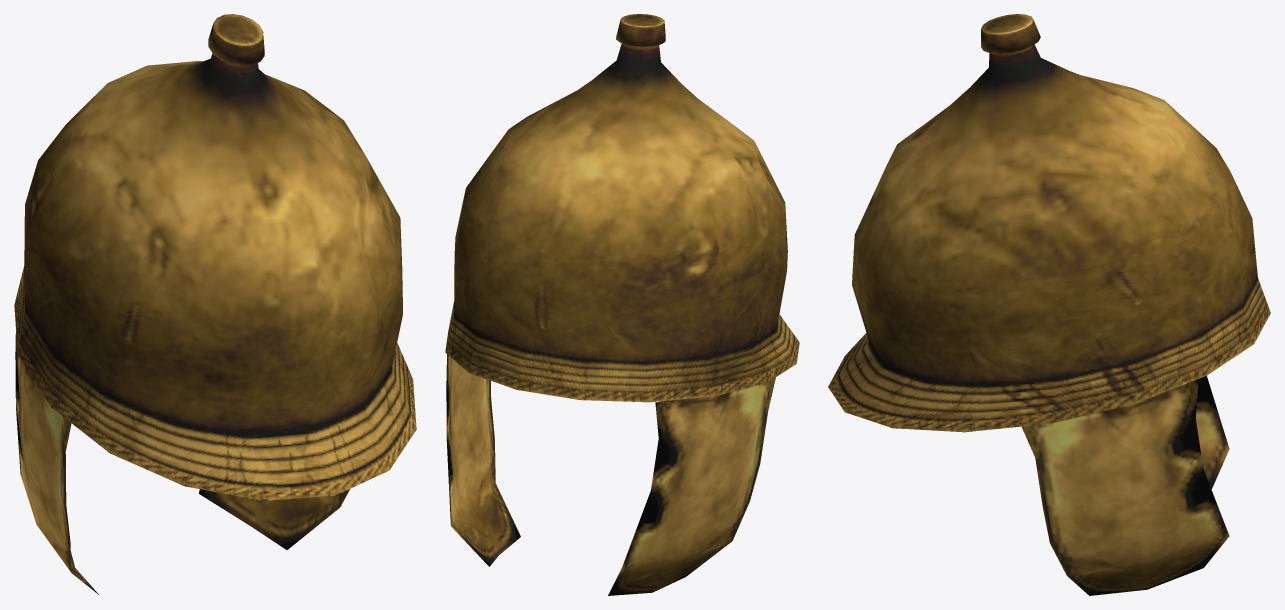
File: helm_rome_helmet_montefortino.glb
The picture shows the model from 3 angles, left to right: view 1: azimuth 30°, elevation 25°; view 2: azimuth 150°, elevation 25°; view 3: azimuth 270°, elevation 25°; orthographic projection. The views are drawn at different scales.
Visible parts, largest first — view 1: helm_rome_helmet_montefortino_part0; view 2: helm_rome_helmet_montefortino_part0; view 3: helm_rome_helmet_montefortino_part0.
Part boxes in pixels (box(x1,y1,x2,y2)): helm_rome_helmet_montefortino_part0: box(14, 14, 416, 594); helm_rome_helmet_montefortino_part0: box(445, 14, 799, 595); helm_rome_helmet_montefortino_part0: box(828, 14, 1270, 595).
Bounding box in the file's own units: 0.4638 × 0.7839 × 0.5891.
Materials: 1 (1 with a texture image).
